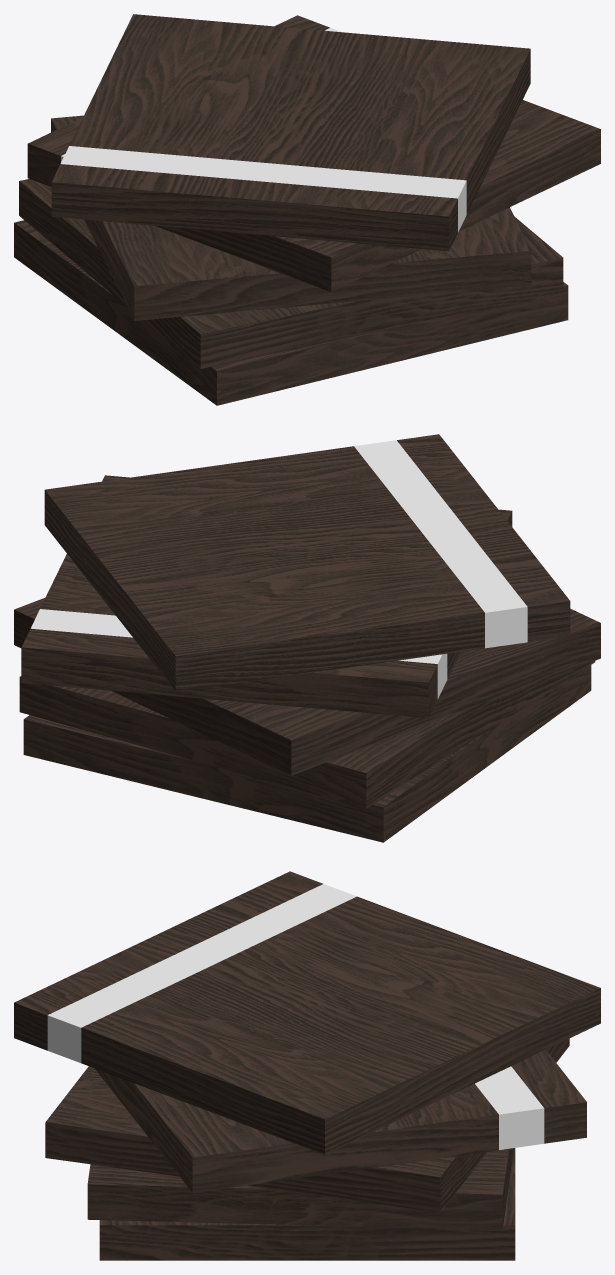
Rendered from coffee_table_007.fbx.
The picture shows the model from 3 angles, top to bottom: view 1: azimuth 30°, elevation 25°; view 2: azimuth 150°, elevation 25°; view 3: azimuth 270°, elevation 25°; orthographic projection. The views are drawn at different scales.
Visible parts, largest first — view 1: coffee_table_007; view 2: coffee_table_007; view 3: coffee_table_007.
Part boxes in pixels (x1,y1,x2,y2): coffee_table_007: [14, 14, 600, 405]; coffee_table_007: [14, 434, 600, 842]; coffee_table_007: [14, 871, 600, 1260].
Bounding box in the file's own units: 159 × 158 × 52.62.
